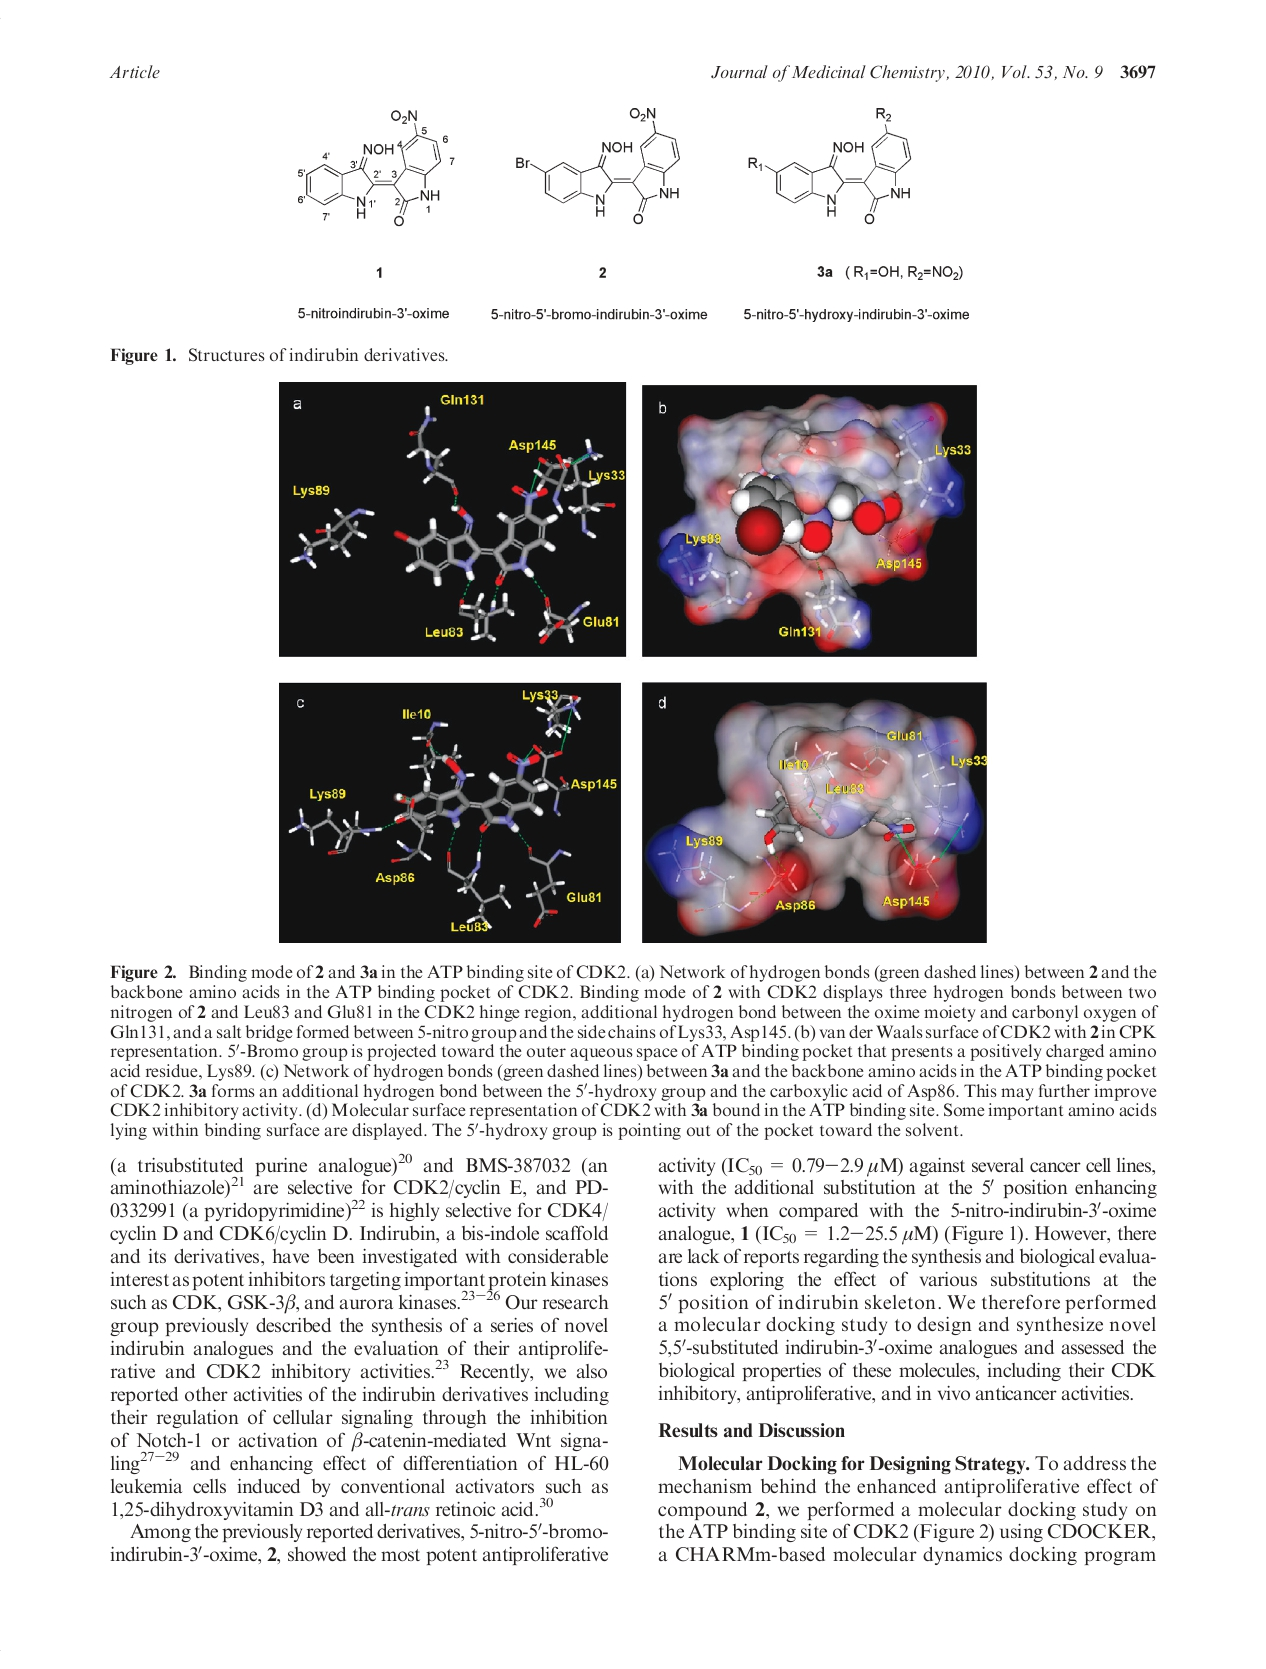exist_molecular: (285, 102, 468, 227), (511, 100, 689, 226), (747, 102, 918, 229)
